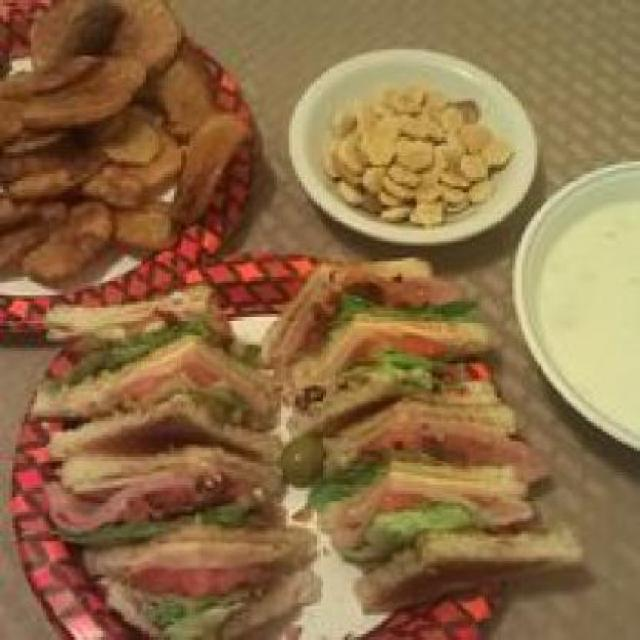clam chowder: (525, 158, 637, 442)
club sandwich: (28, 273, 590, 638)
